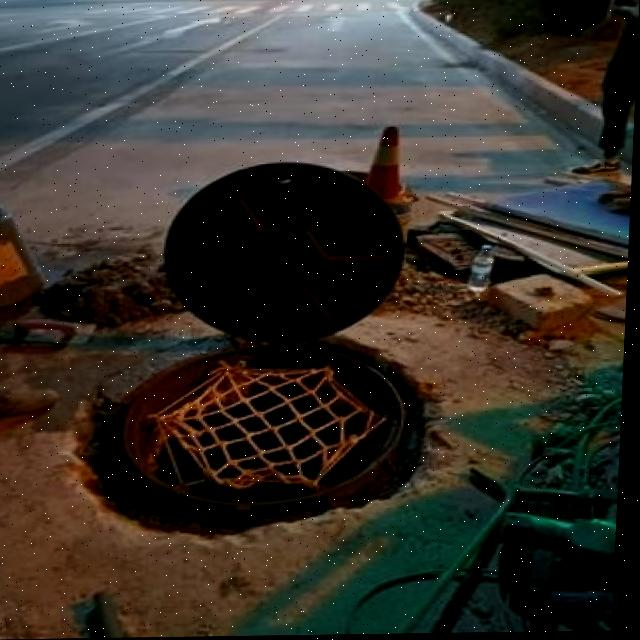manhole: (65, 332, 458, 539)
